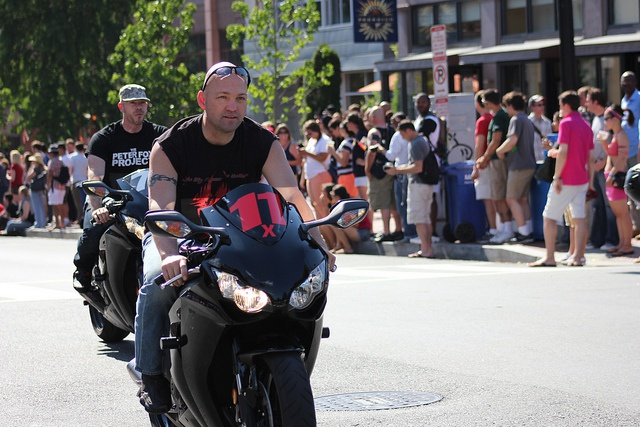non-vehicle: (146, 182, 372, 422), (78, 167, 150, 342)
